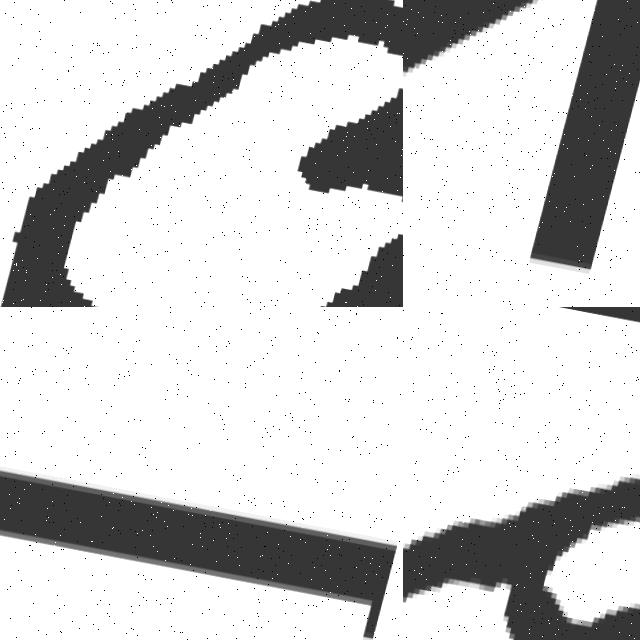L: (0, 412, 403, 640)
O: (0, 0, 403, 307)
Y: (403, 331, 640, 640)
Z: (403, 0, 640, 293)
